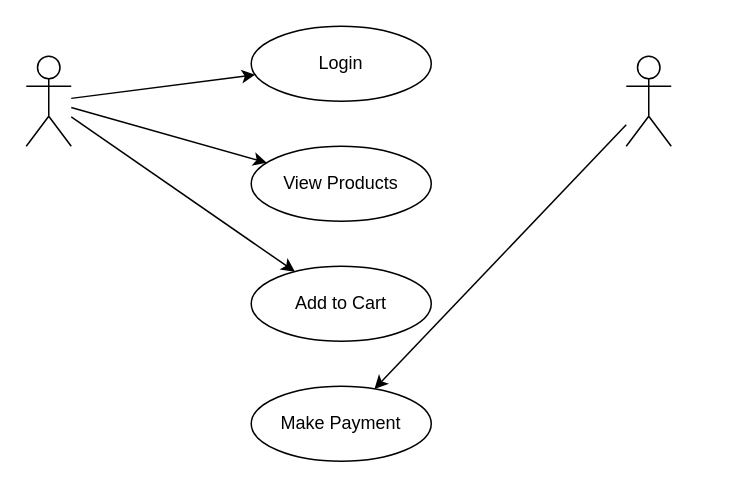
Some shapes in this 749 by 488 pixel diagram are drawn without their labels. The shapes that lost their labels are listed below. From the top down, each one's centre as x and y in pixels, then its label:
pixel 48 100: User
pixel 648 100: Payment Gateway
